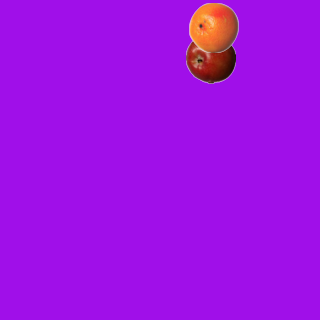Apple Braeburn: (185, 33, 235, 83)
Grapefruit Pink: (188, 2, 238, 52)
